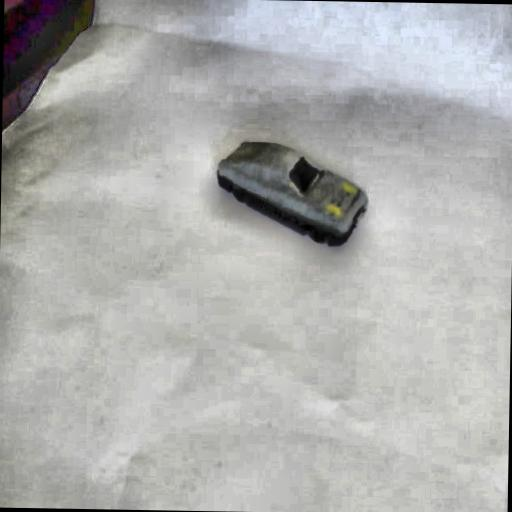normal_car: (213, 136, 369, 249)
